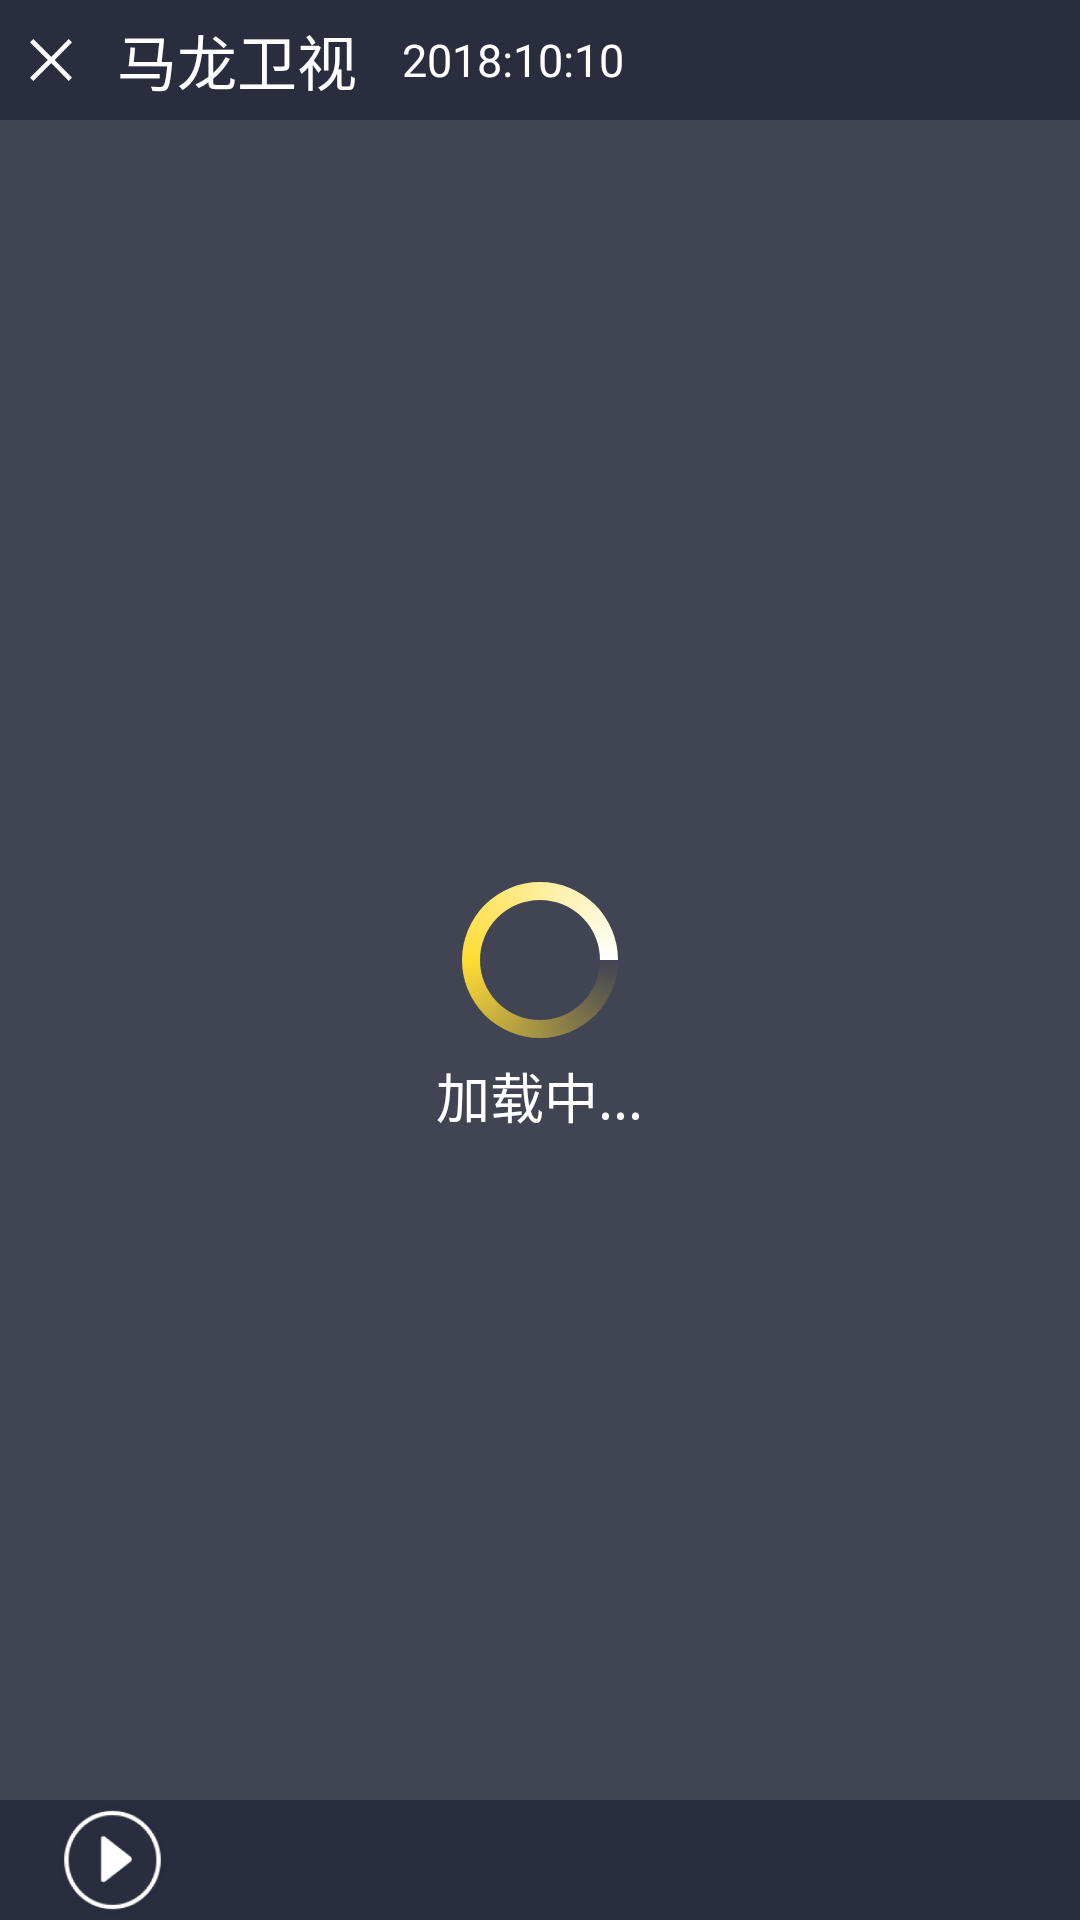

Screen size 1080 x 1920. Icon name, then its center in pixels as (x,y):
lesson list filter play: (112,1860)
